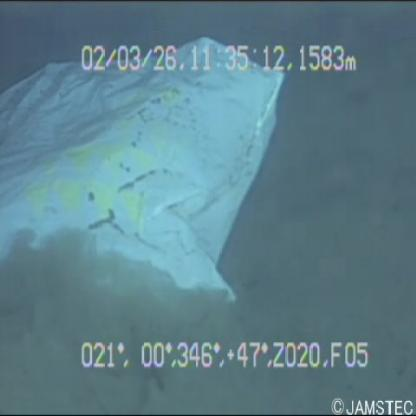Rác: (1, 35, 291, 328)
